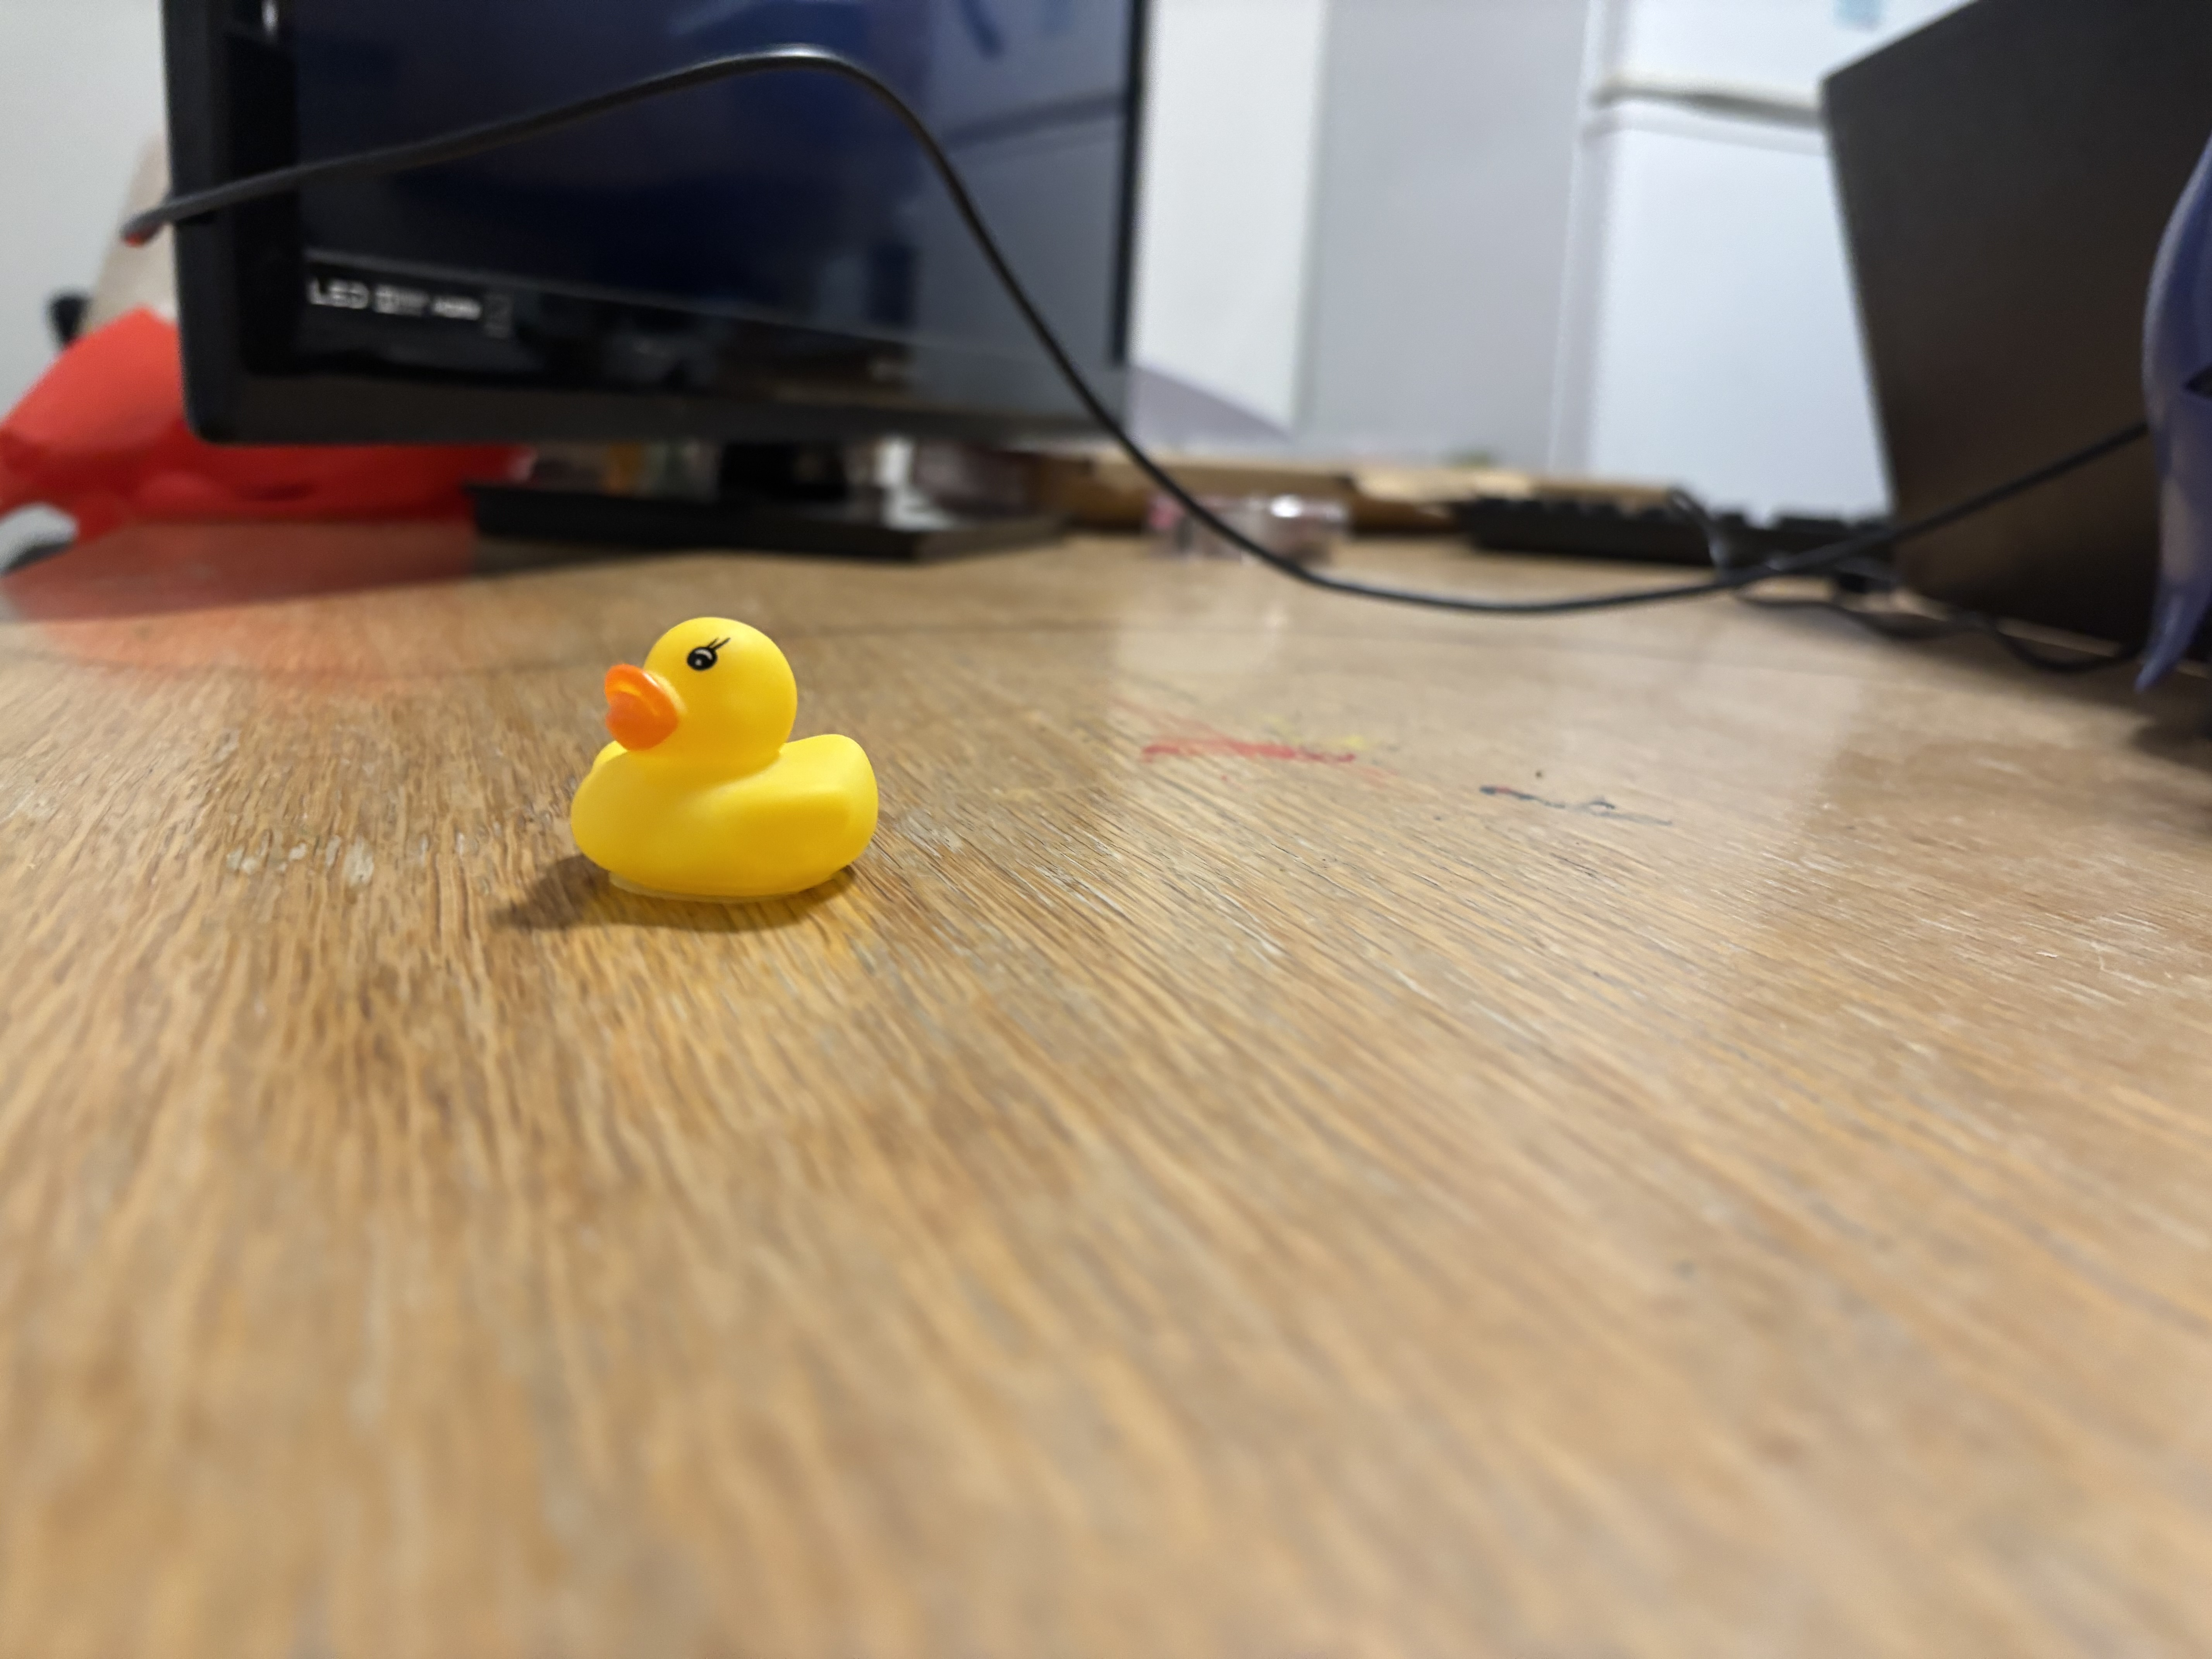duck_regular: (561, 605, 900, 910)
